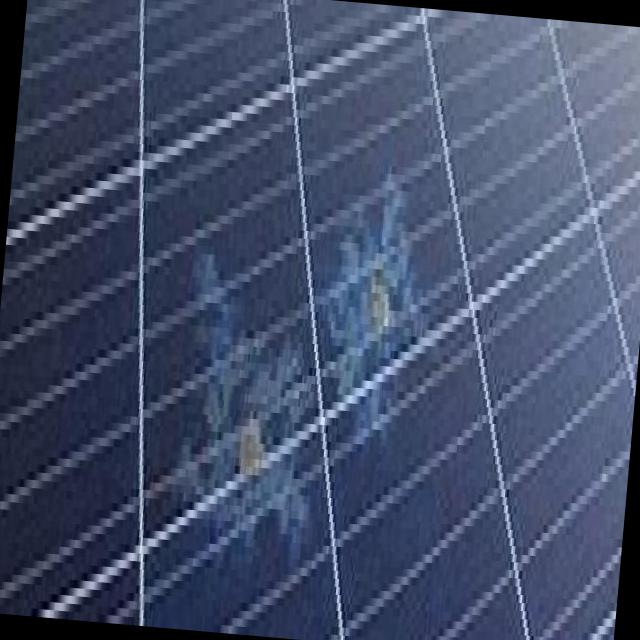faulty: (144, 144, 445, 604)
